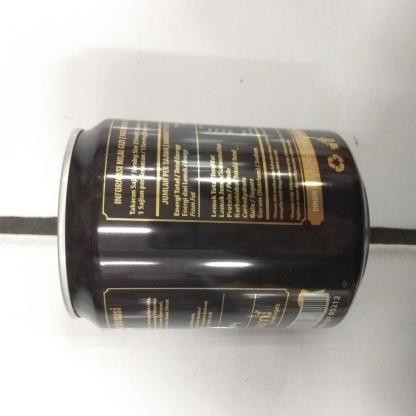can: (52, 109, 377, 343)
